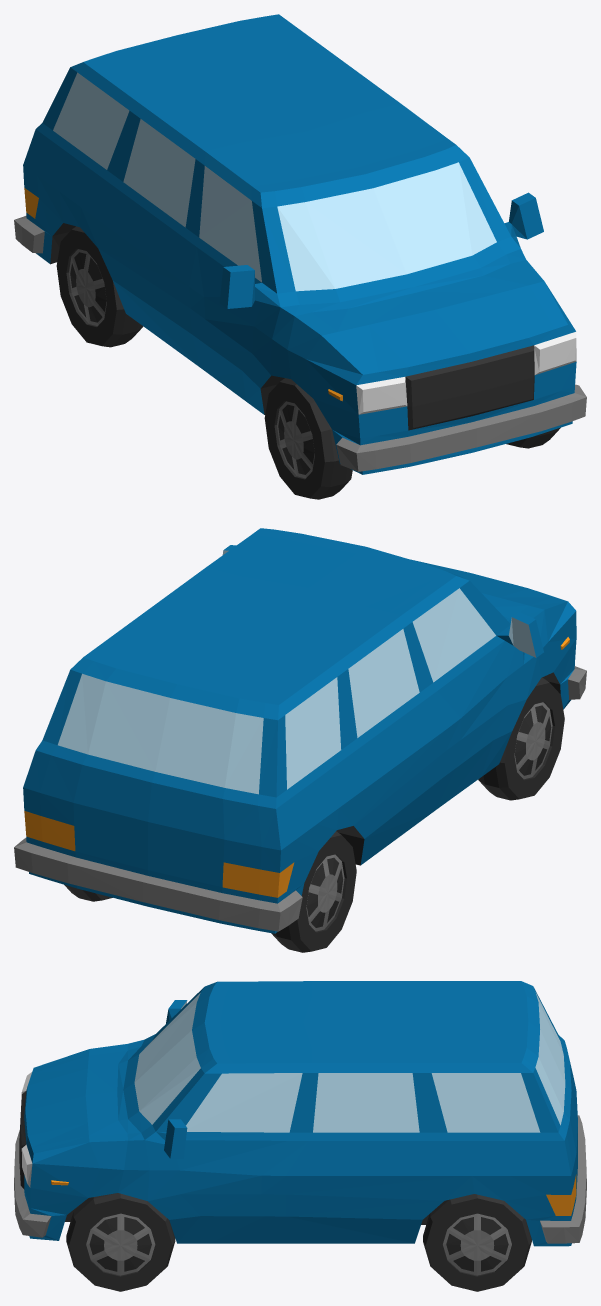
The model's file is myvan.glb.
3 renders of one model, top to bottom at view 1: azimuth 30°, elevation 25°; view 2: azimuth 150°, elevation 25°; view 3: azimuth 270°, elevation 25°, orthographic. The views are drawn at different scales.
Visible parts, largest first — view 1: Van; view 2: Van; view 3: Van.
Boxes of the visible parts, left/top/right/bottom form: Van: left=14, top=14, right=586, bottom=499; Van: left=14, top=528, right=586, bottom=952; Van: left=14, top=981, right=586, bottom=1291.
Size of the model in its own units: 1.52 by 1.19 by 2.78.
1 material, 1 textured.
